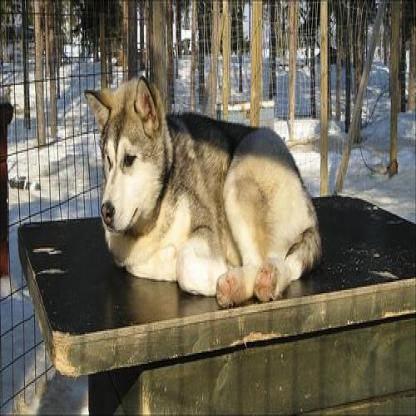Eskimo_dog: (83, 74, 319, 306)
